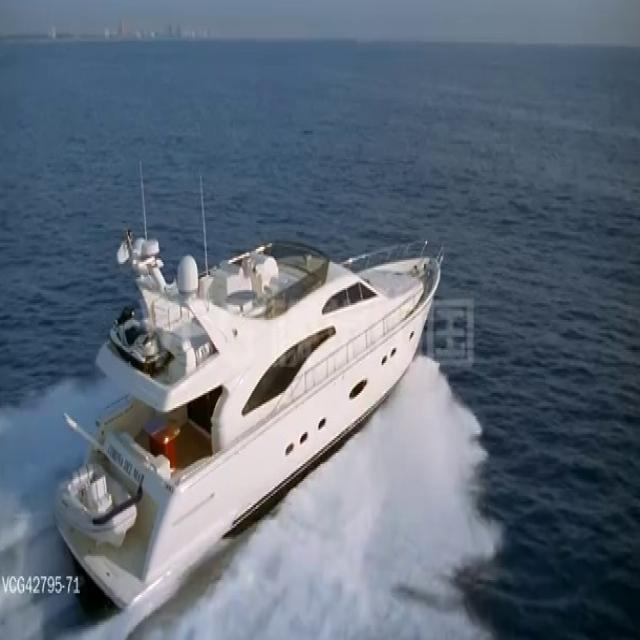houseboat: (52, 194, 441, 607)
